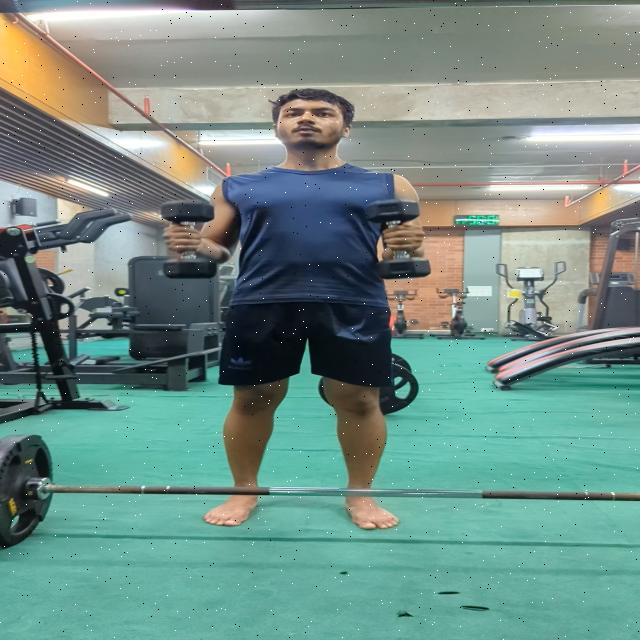Normal_DumbbellBicepCurls: (146, 77, 435, 538)
